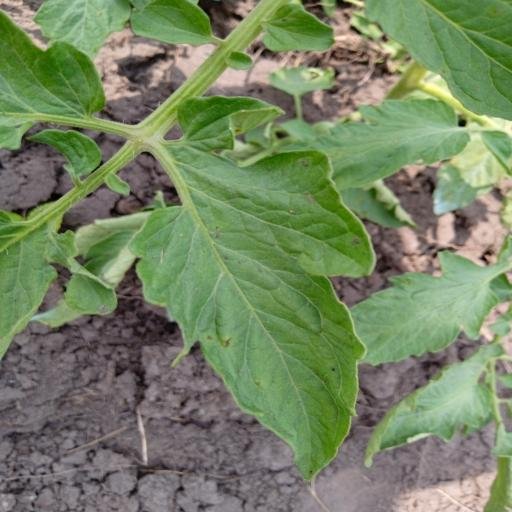Tomato_Mildiou: (125, 95, 383, 492)
